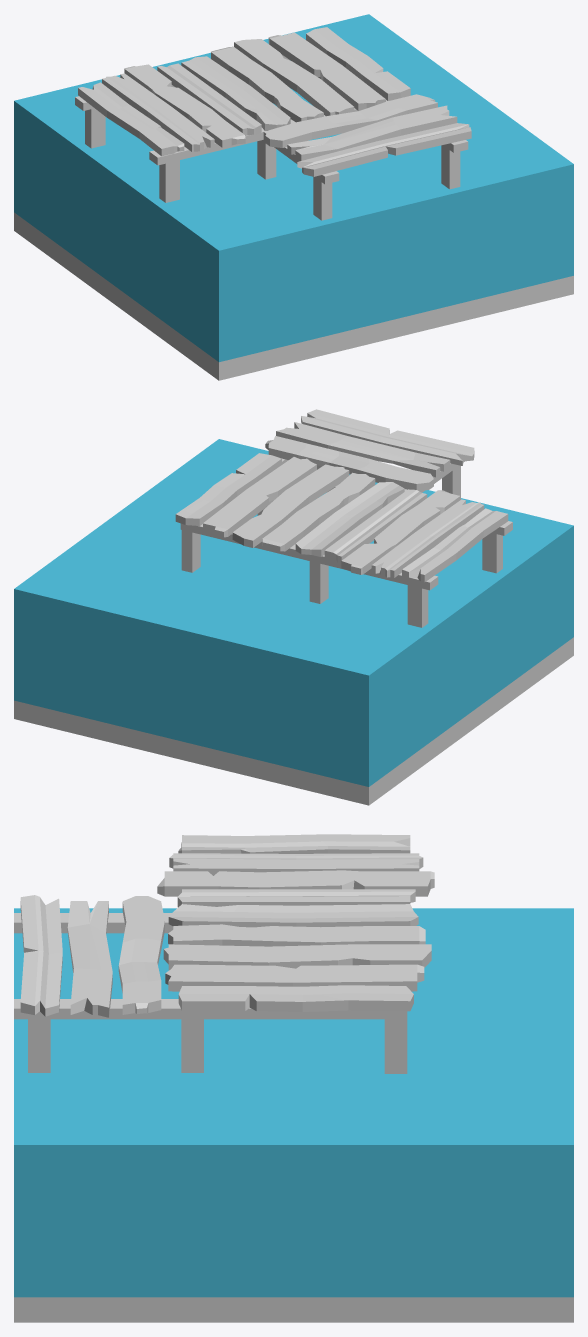
Rendered from PortUR.fbx.
3 renders of one model, top to bottom at view 1: azimuth 30°, elevation 25°; view 2: azimuth 150°, elevation 25°; view 3: azimuth 270°, elevation 25°, orthographic. The views are drawn at different scales.
Visible parts, largest first — view 1: PortUR; view 2: PortUR; view 3: PortUR.
Part boxes in pixels (x1=…): PortUR: x1=14, y1=14, x2=573, y2=380; PortUR: x1=14, y1=409, x2=573, y2=805; PortUR: x1=14, y1=834, x2=573, y2=1322.
Bounding box in the file's own units: 2 × 2 × 0.9999.
